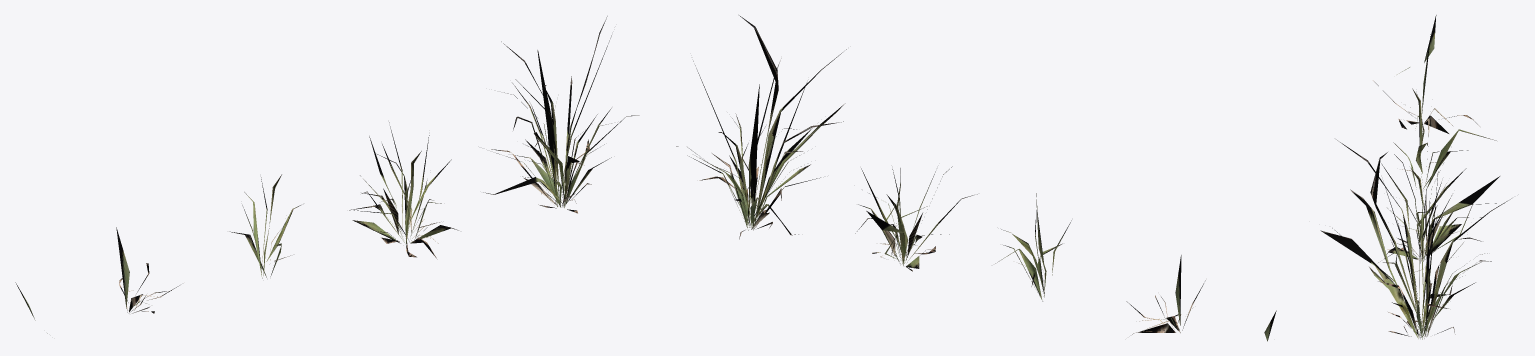
The model's file is grass_medium_02.glb.
3 views of the same model, side by side, from view 1: azimuth 30°, elevation 25°; view 2: azimuth 150°, elevation 25°; view 3: azimuth 270°, elevation 25° (orthographic). The views are drawn at different scales.
Visible parts, largest first — view 1: grass_medium_02_a; view 2: grass_medium_02_a; view 3: grass_medium_02_a.
Boxes of the visible parts, x1,y1,x2,y2 form: grass_medium_02_a: [15, 16, 639, 333]; grass_medium_02_a: [676, 15, 1276, 341]; grass_medium_02_a: [1320, 15, 1511, 339].
Bounding box in the file's own units: 1.26 × 0.4026 × 0.3851.
1 material, 1 textured.
